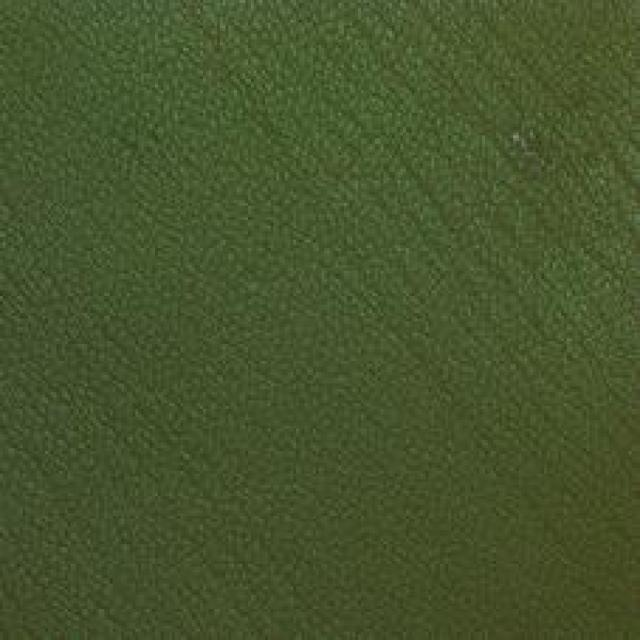Growth Marks: (353, 53, 622, 246)
